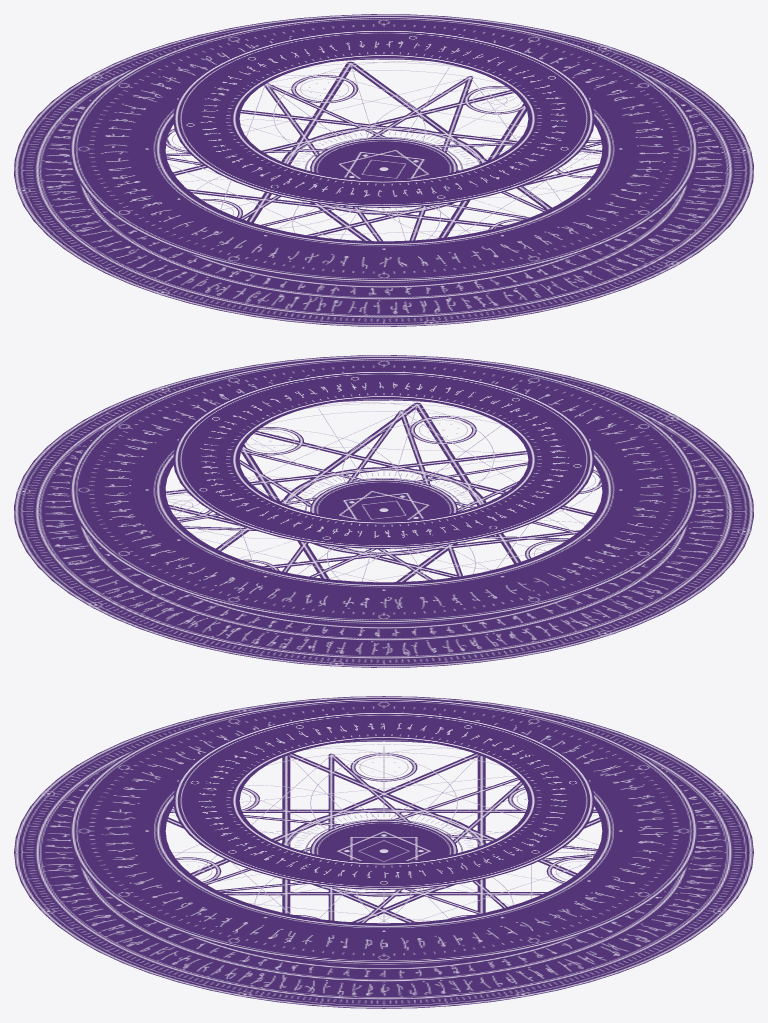
The model's file is 포탈_마법진_뽑기.fbx.
3 renders of one model, top to bottom at view 1: azimuth 30°, elevation 25°; view 2: azimuth 150°, elevation 25°; view 3: azimuth 270°, elevation 25°, orthographic.
Visible parts, largest first — view 1: 마법진_떠있는고리_아래_회전_반시계, 마법진_바닥_문자띠_회전_시계, 마법진_떠있는고리_위_회전_시계, 마법진_바닥_기하_회전_반시계, 마법진_중심; view 2: 마법진_떠있는고리_아래_회전_반시계, 마법진_바닥_문자띠_회전_시계, 마법진_떠있는고리_위_회전_시계, 마법진_바닥_기하_회전_반시계, 마법진_중심; view 3: 마법진_떠있는고리_아래_회전_반시계, 마법진_바닥_문자띠_회전_시계, 마법진_떠있는고리_위_회전_시계, 마법진_바닥_기하_회전_반시계, 마법진_중심.
Boxes of the visible parts, x1,y1,x2,y2 form: 마법진_떠있는고리_아래_회전_반시계: [69, 16, 698, 281]; 마법진_바닥_문자띠_회전_시계: [14, 14, 753, 326]; 마법진_떠있는고리_위_회전_시계: [173, 29, 594, 207]; 마법진_바닥_기하_회전_반시계: [166, 61, 601, 241]; 마법진_중심: [310, 138, 457, 179]; 마법진_떠있는고리_아래_회전_반시계: [69, 357, 698, 622]; 마법진_바닥_문자띠_회전_시계: [14, 355, 753, 667]; 마법진_떠있는고리_위_회전_시계: [173, 370, 594, 548]; 마법진_바닥_기하_회전_반시계: [166, 402, 601, 582]; 마법진_중심: [310, 479, 457, 520]; 마법진_떠있는고리_아래_회전_반시계: [69, 698, 698, 963]; 마법진_바닥_문자띠_회전_시계: [14, 696, 753, 1008]; 마법진_떠있는고리_위_회전_시계: [173, 711, 594, 889]; 마법진_바닥_기하_회전_반시계: [167, 744, 600, 923]; 마법진_중심: [310, 820, 457, 861].
Bounding box in the file's own units: 1000 × 77 × 1000.
Materials: 5 (5 with a texture image).
